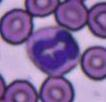N: (27, 26, 81, 76)
